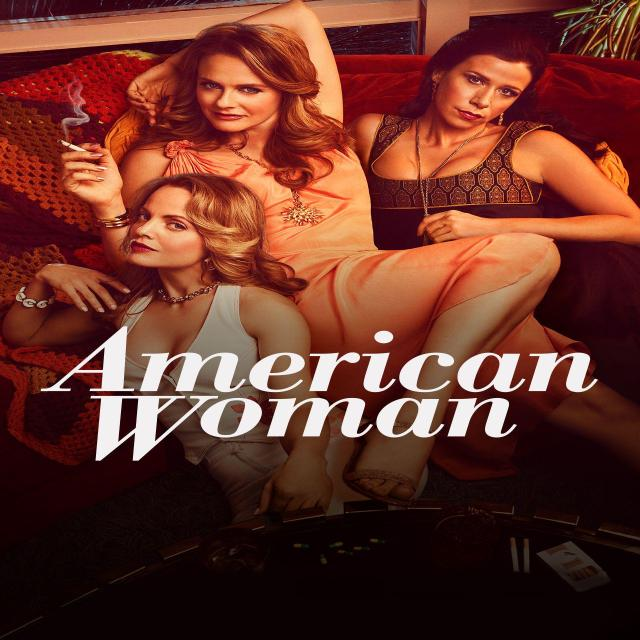cigarette: (46, 124, 104, 171)
